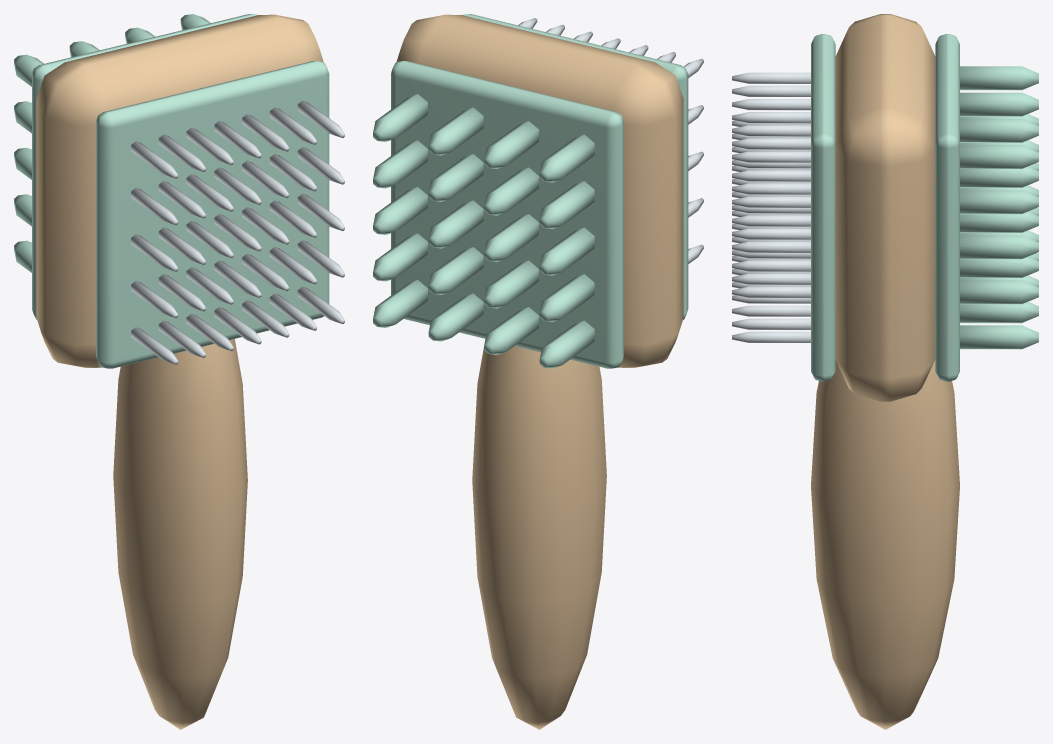
File: brush_twin.glb
3 views of the same model, side by side, from view 1: azimuth 30°, elevation 25°; view 2: azimuth 150°, elevation 25°; view 3: azimuth 270°, elevation 25° (orthographic). The views are drawn at different scales.
Parts seen in each view (by area): view 1: Body; view 2: Body; view 3: Body.
Boxes of the visible parts, x1,y1,x2,y2 form: Body: (14,14,344,729); Body: (373,14,703,729); Body: (732,14,1038,729).
Bounding box in the file's own units: 0.0915 × 0.22 × 0.0915.
3 materials, 3 textured.
